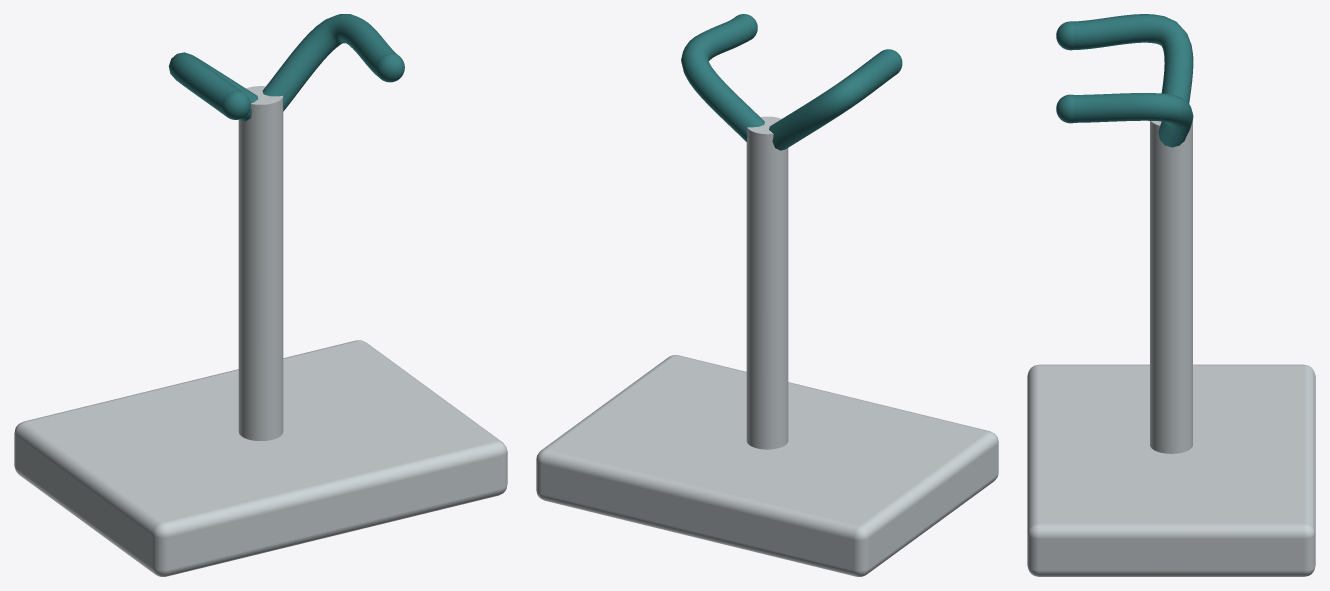
File: tabletop-hobby-store-and-club-airbrush-holder-f7d32ef2__31595.glb
The picture shows the model from 3 angles, left to right: view 1: azimuth 30°, elevation 25°; view 2: azimuth 150°, elevation 25°; view 3: azimuth 270°, elevation 25°; orthographic projection. The views are drawn at different scales.
Visible parts, largest first — view 1: airbrush-holder; view 2: airbrush-holder; view 3: airbrush-holder.
Part boxes in pixels (left/top/right/bottom): airbrush-holder: left=14, top=14, right=507, bottom=576; airbrush-holder: left=536, top=14, right=998, bottom=576; airbrush-holder: left=1027, top=14, right=1315, bottom=576.
Size of the model in its own units: 0.055 by 0.0677 by 0.04.
